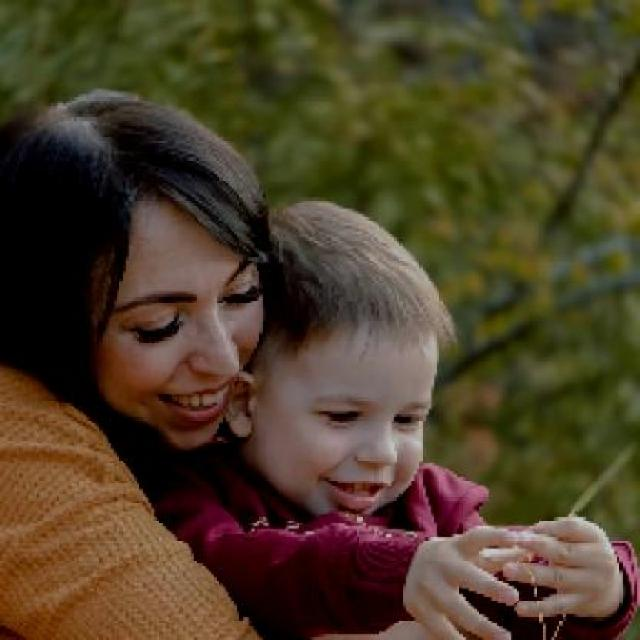child: (148, 193, 640, 638)
